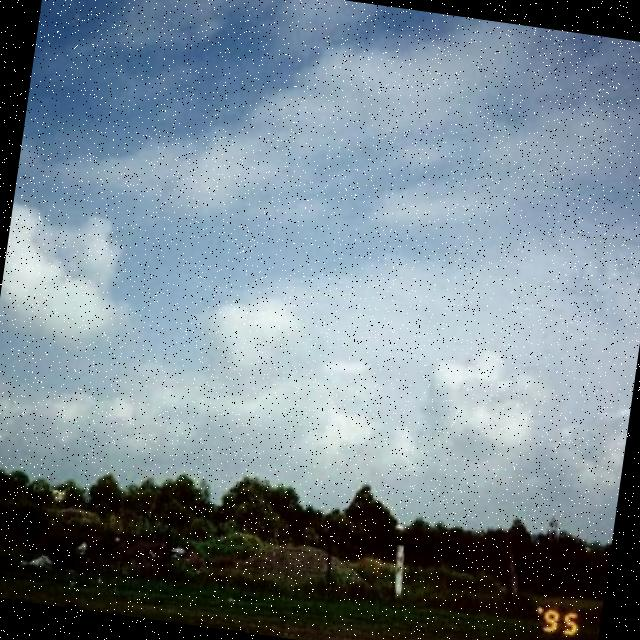Cc: (1, 1, 640, 511)
